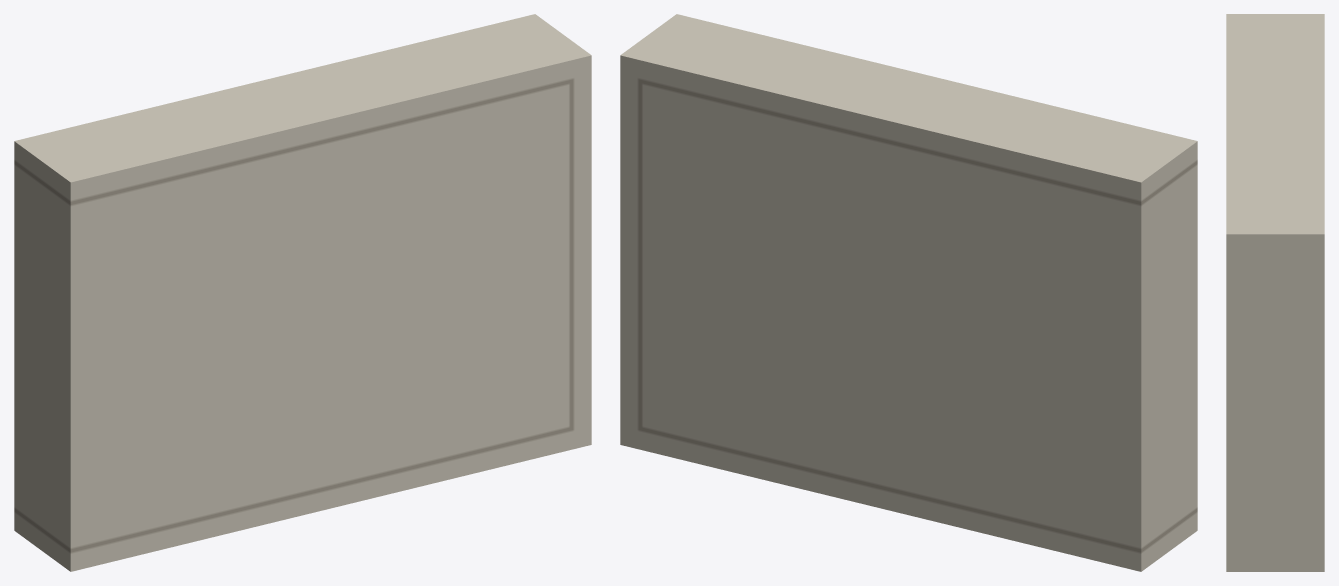
File: famicom_box.glb
The picture shows the model from 3 angles, left to right: view 1: azimuth 30°, elevation 25°; view 2: azimuth 150°, elevation 25°; view 3: azimuth 270°, elevation 25°; orthographic projection. The views are drawn at different scales.
Visible parts, largest first — view 1: famicom_box; view 2: famicom_box; view 3: famicom_box.
Part boxes in pixels (box(x1,y1,x2,y2)): famicom_box: box(14, 14, 591, 571); famicom_box: box(620, 14, 1197, 571); famicom_box: box(1226, 14, 1324, 571).
Size of the model in its own units: 0.133 by 0.095 by 0.025.
1 material, 1 textured.
